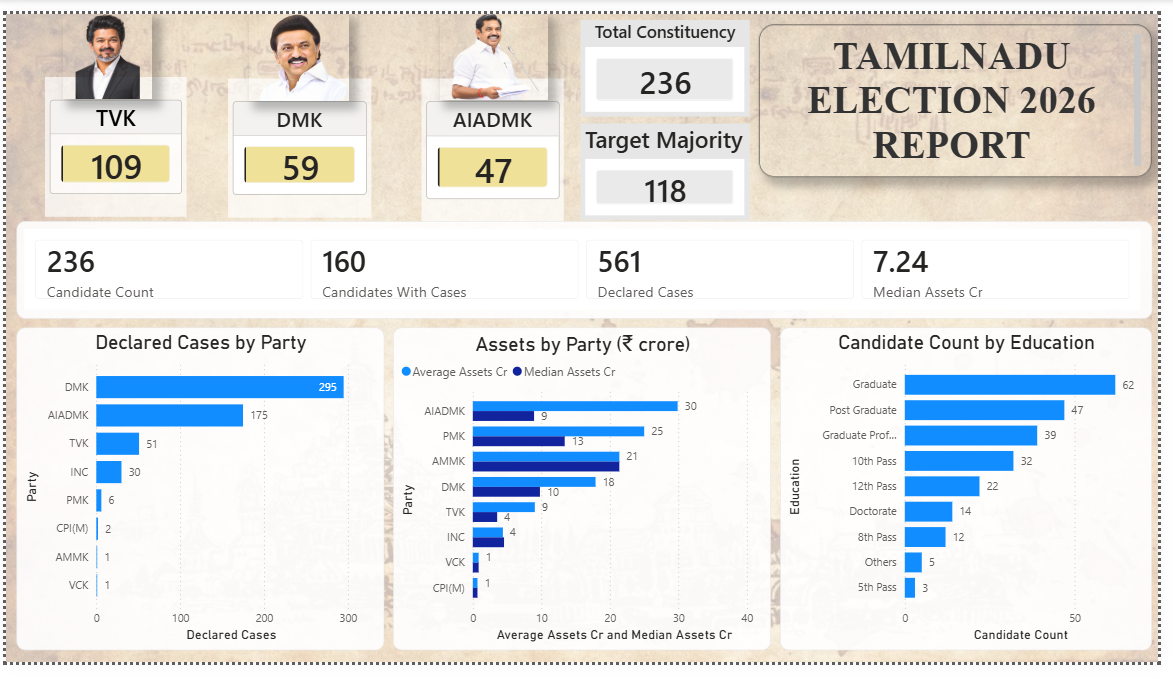

The page's visual inventory and layout, read from the dashboard file:
{"tool":"powerbi","page":{"name":"Reports","canvas":[1280,720],"ordinal":1},"visuals":[{"type":"textbox","box":[837.4,12.1,436.1,169.6],"z":0},{"type":"cardVisual","fields":{"Data":["Sum(Won Seats.Won Seats)"],"Rows":["Won Seats.Party"]},"box":[43.9,70.6,157.5,155],"z":1000,"group":"g1"},{"type":"cardVisual","fields":{"Data":["Sum(Won Seats.Won Seats)"],"Rows":["Won Seats.Party"]},"box":[246.8,70.9,159.1,154.5],"z":1000,"group":"g2"},{"type":"cardVisual","title":"Target Majority","fields":{"Data":["Candidates.Target_Majority"]},"box":[639,121.1,187.8,107.5],"z":1000},{"type":"group","id":"g1","title":"Group 1","box":[43.9,0,157.5,225.6],"z":2000},{"type":"cardVisual","fields":{"Data":["Sum(Won Seats.Won Seats)"],"Rows":["Won Seats.Party"]},"box":[461.8,71.8,158.2,159.1],"z":2000,"group":"g3"},{"type":"group","id":"g2","title":"Group 2","box":[246.8,0,159,225.6],"z":3000},{"type":"group","id":"g3","title":"Group 3","box":[461.8,0,159,230.2],"z":4000},{"type":"cardVisual","title":"Total Constituency","fields":{"Data":["CountNonNull(Candidates.Constituency)"]},"box":[639,6.1,187.8,107.5],"z":5000},{"type":"image","box":[270.4,0,110.9,96.4],"z":6000,"group":"g2"},{"type":"clusteredBarChart","fields":{"Category":["Candidates.Party"],"Y":["Candidates.Declared Cases"]},"box":[11.7,348.3,408.3,358.3],"z":6000},{"type":"image","box":[64.1,0,99.4,94.6],"z":7000,"group":"g1"},{"type":"image","box":[481.8,0,120,95.5],"z":7000,"group":"g3"},{"type":"clusteredBarChart","title":"Assets by Party (₹ crore)","fields":{"Category":["Candidates.Party"],"Y":["Candidates.Average Assets Cr","Candidates.Median Assets Cr"]},"box":[430,348.3,420,358.3],"z":7000},{"type":"clusteredBarChart","fields":{"Category":["Candidates.Education"],"Y":["Candidates.Candidate Count"]},"box":[860,348.3,413.3,358.3],"z":8000},{"type":"cardVisual","fields":{"Data":["Candidates.Candidate Count","Candidates.Candidates With Cases","Candidates.Declared Cases","Candidates.Median Assets Cr"]},"box":[11.7,230,1261.7,108.3],"z":9000}]}

Visuals, with their boxes in screenshot pixels (x1, y1, x2, y2), scaled from the page's 1280x720 canvas onto the 1173x679 screenshot:
textbox: (x1=767, y1=11, x2=1167, y2=171)
cardVisual - Sum(Won Seats.Won Seats) x Won Seats.Party: (x1=40, y1=67, x2=185, y2=213)
cardVisual - Sum(Won Seats.Won Seats) x Won Seats.Party: (x1=226, y1=67, x2=372, y2=213)
"Target Majority" cardVisual: (x1=586, y1=114, x2=758, y2=216)
"Group 1" group: (x1=40, y1=0, x2=185, y2=213)
cardVisual - Sum(Won Seats.Won Seats) x Won Seats.Party: (x1=423, y1=68, x2=568, y2=218)
"Group 2" group: (x1=226, y1=0, x2=372, y2=213)
"Group 3" group: (x1=423, y1=0, x2=569, y2=217)
"Total Constituency" cardVisual: (x1=586, y1=6, x2=758, y2=107)
image: (x1=248, y1=0, x2=349, y2=91)
clusteredBarChart - Candidates.Party x Candidates.Declared Cases: (x1=11, y1=328, x2=385, y2=666)
image: (x1=59, y1=0, x2=150, y2=89)
image: (x1=442, y1=0, x2=551, y2=90)
"Assets by Party (₹ crore)" clusteredBarChart: (x1=394, y1=328, x2=779, y2=666)
clusteredBarChart - Candidates.Education x Candidates.Candidate Count: (x1=788, y1=328, x2=1167, y2=666)
cardVisual - Candidates.Candidate Count x Candidates.Candidates With Cases: (x1=11, y1=217, x2=1167, y2=319)
